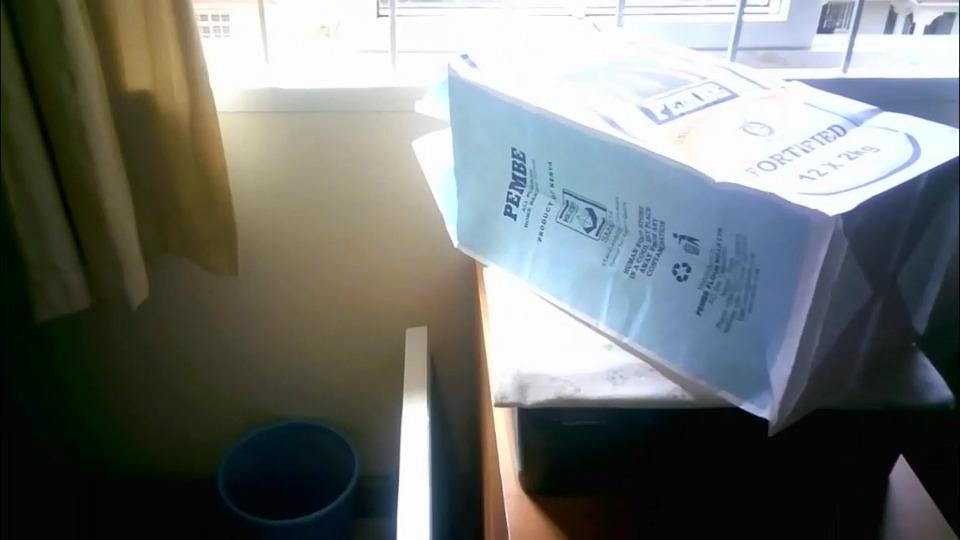wheat_flour_blue_label: (453, 31, 956, 432)
